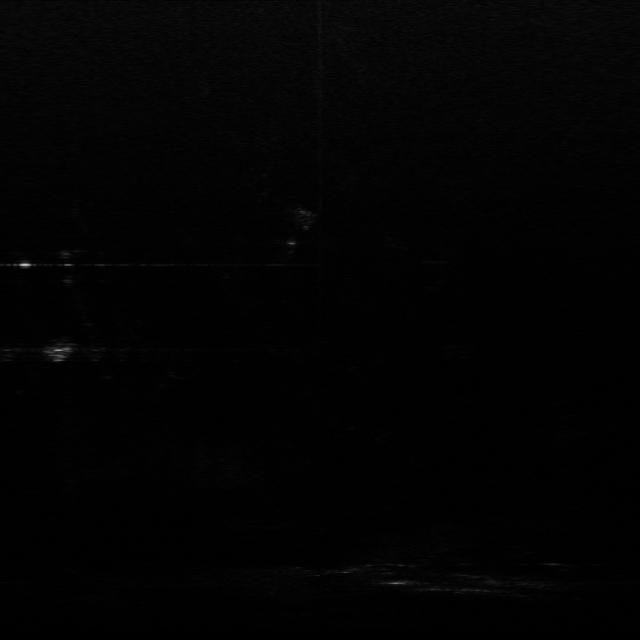rov: (43, 343, 78, 368)
